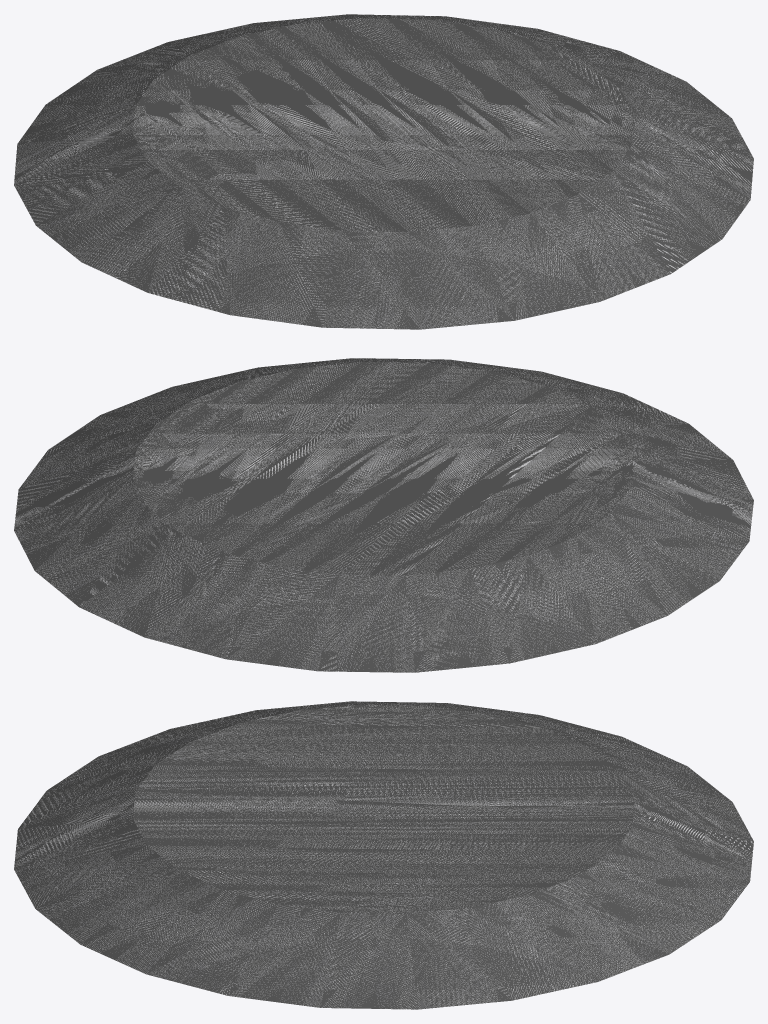
File: original-38.obj
3 views of the same model, one above another, from view 1: azimuth 30°, elevation 25°; view 2: azimuth 150°, elevation 25°; view 3: azimuth 270°, elevation 25° (orthographic).
Visible parts, largest first — view 1: Group24/mesh36/mesh36-geometry#mesh36-geometry; view 2: Group24/mesh36/mesh36-geometry#mesh36-geometry; view 3: Group24/mesh36/mesh36-geometry#mesh36-geometry.
Boxes of the visible parts, left/top/right/bottom form: Group24/mesh36/mesh36-geometry#mesh36-geometry: left=14, top=14, right=753, bottom=329; Group24/mesh36/mesh36-geometry#mesh36-geometry: left=14, top=358, right=753, bottom=672; Group24/mesh36/mesh36-geometry#mesh36-geometry: left=14, top=701, right=753, bottom=1009.
Bounding box in the file's own units: 0.2439 × 0.0171 × 0.2475.
